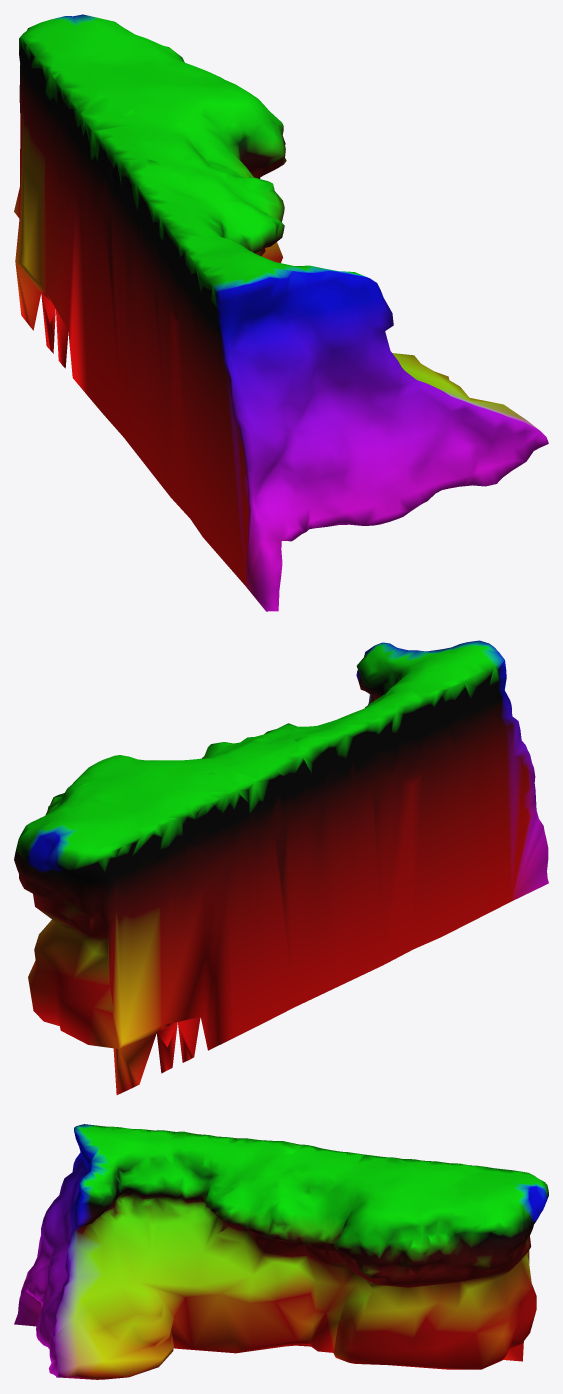
File: desert-ledge-a.glb
3 renders of one model, top to bottom at view 1: azimuth 30°, elevation 25°; view 2: azimuth 150°, elevation 25°; view 3: azimuth 270°, elevation 25°, orthographic. The views are drawn at different scales.
Visible parts, largest first — view 1: desert-ledge-a_lod0; view 2: desert-ledge-a_lod0; view 3: desert-ledge-a_lod0.
Part boxes in pixels (box(x1,y1,x2,y2)): desert-ledge-a_lod0: box(14, 14, 548, 611); desert-ledge-a_lod0: box(14, 640, 548, 1094); desert-ledge-a_lod0: box(14, 1124, 548, 1379).
Size of what is drawn, in the model's own units: 5.34 by 4.76 by 11.38.
